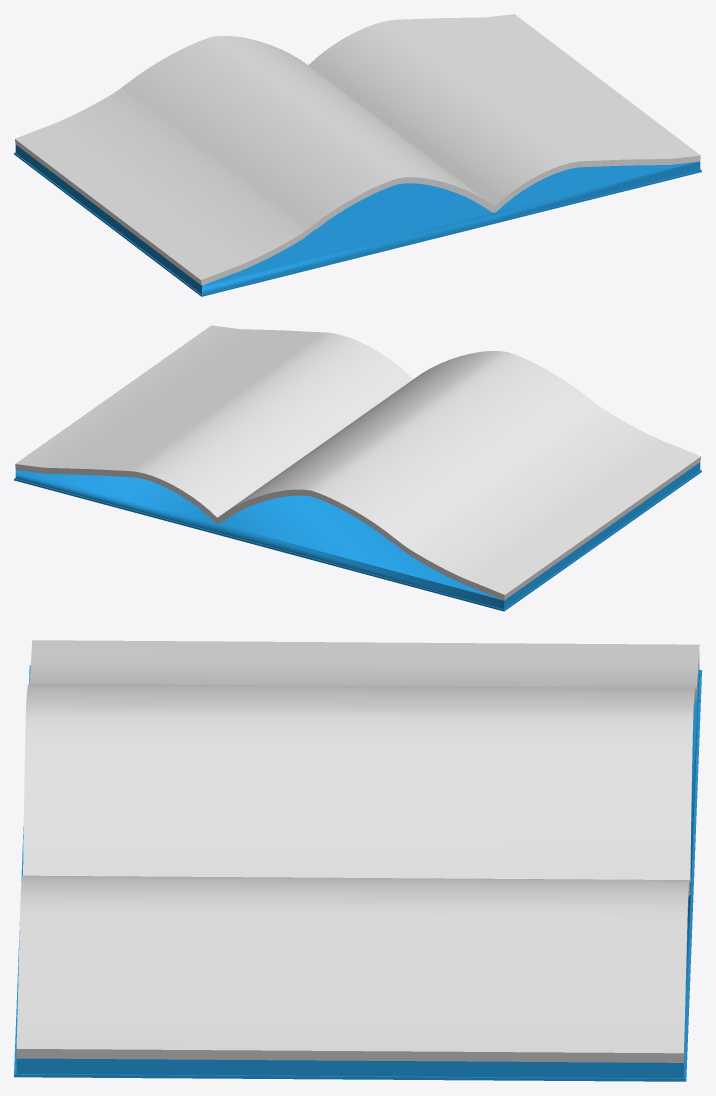
The model's file is low-poly_3d_open_book.glb.
3 renders of one model, top to bottom at view 1: azimuth 30°, elevation 25°; view 2: azimuth 150°, elevation 25°; view 3: azimuth 270°, elevation 25°, orthographic. The views are drawn at different scales.
Visible parts, largest first — view 1: Plane.038; view 2: Plane.038; view 3: Plane.038.
Boxes of the visible parts, x1=… form: Plane.038: x1=14, y1=14, x2=701, y2=296; Plane.038: x1=14, y1=325, x2=701, y2=611; Plane.038: x1=14, y1=640, x2=701, y2=1081.
Size of the model in its own units: 4.66 by 0.6364 by 3.18.
